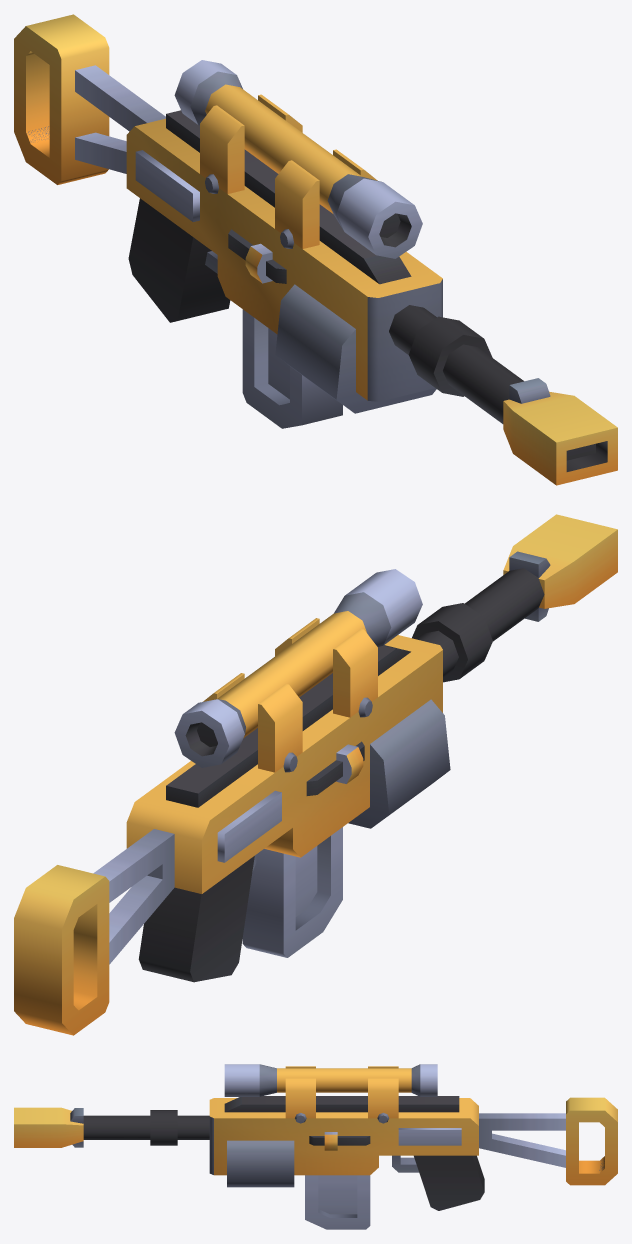
3 views of the same model, one above another, from view 1: azimuth 30°, elevation 25°; view 2: azimuth 150°, elevation 25°; view 3: azimuth 270°, elevation 25° (orthographic). The views are drawn at different scales.
Parts seen in each view (by area): view 1: blaster-e; view 2: blaster-e; view 3: blaster-e.
Boxes of the visible parts, x1,y1,x2,y2 form: blaster-e: (14, 14, 617, 485); blaster-e: (14, 514, 617, 1035); blaster-e: (14, 1064, 617, 1229).
Size of the model in its own units: 0.1221 by 0.2972 by 1.02.
Materials: 1 (1 with a texture image).
